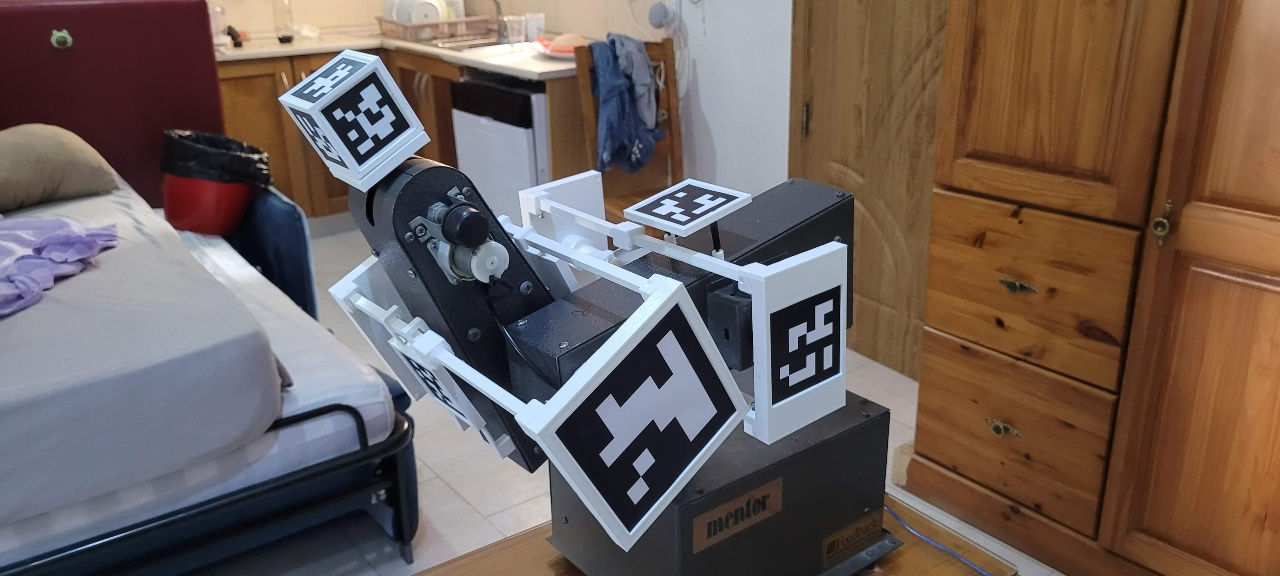Robot: (276, 48, 855, 553)
